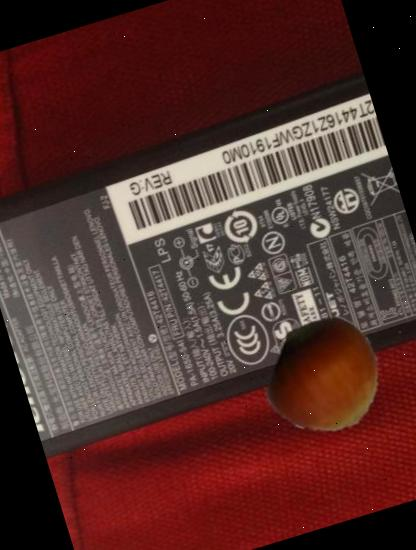Nut: (254, 300, 402, 450)
